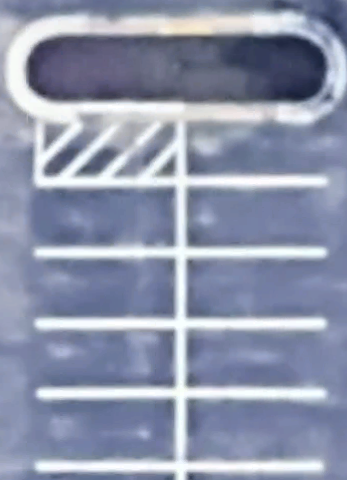Occupied: (37, 114, 182, 180)
Vacant: (180, 181, 324, 255), (36, 181, 181, 254), (179, 395, 322, 469), (179, 253, 322, 325), (36, 253, 183, 323), (40, 395, 181, 467), (38, 324, 180, 395), (180, 325, 321, 396), (182, 114, 325, 182)
